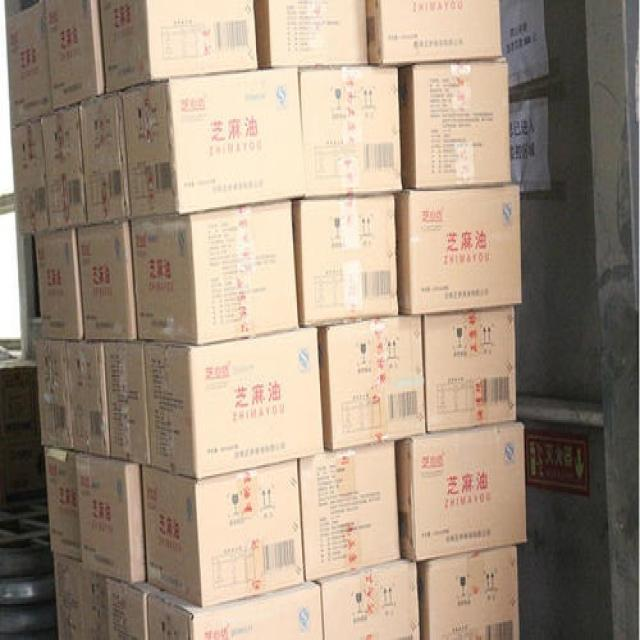box: (120, 69, 306, 219), (142, 330, 323, 479), (140, 460, 306, 608), (129, 201, 299, 345), (394, 421, 528, 561), (393, 184, 522, 316), (317, 316, 426, 451), (398, 59, 511, 189), (296, 442, 400, 582), (290, 193, 397, 329), (298, 66, 402, 199), (423, 304, 516, 434), (147, 583, 325, 638), (417, 545, 521, 638), (365, 1, 503, 65), (76, 456, 145, 584), (316, 556, 422, 638), (253, 1, 367, 70), (73, 221, 138, 341), (43, 0, 106, 110), (81, 94, 130, 223), (38, 106, 87, 232), (103, 341, 152, 466), (6, 3, 54, 129), (32, 230, 84, 339), (82, 565, 156, 638), (67, 341, 110, 456), (10, 117, 51, 236), (35, 339, 74, 450), (44, 447, 80, 562), (53, 555, 85, 638)
